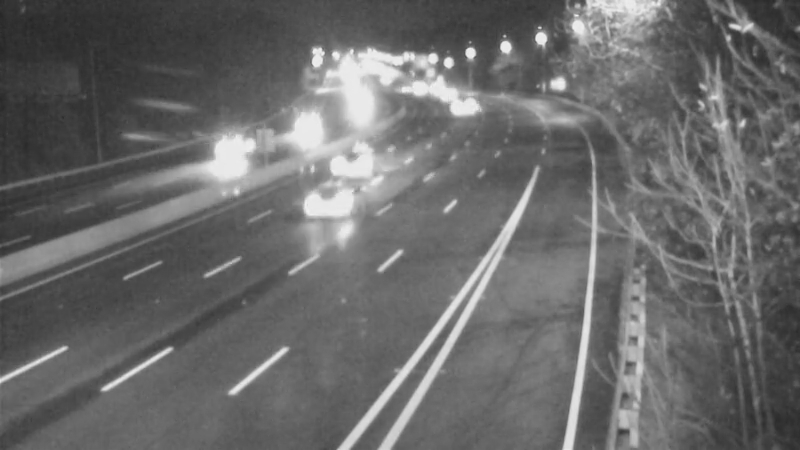vehicle: (312, 117, 392, 197), (299, 159, 379, 239), (181, 110, 261, 190), (395, 61, 445, 111), (425, 72, 475, 122), (440, 83, 490, 133), (275, 118, 325, 168)
